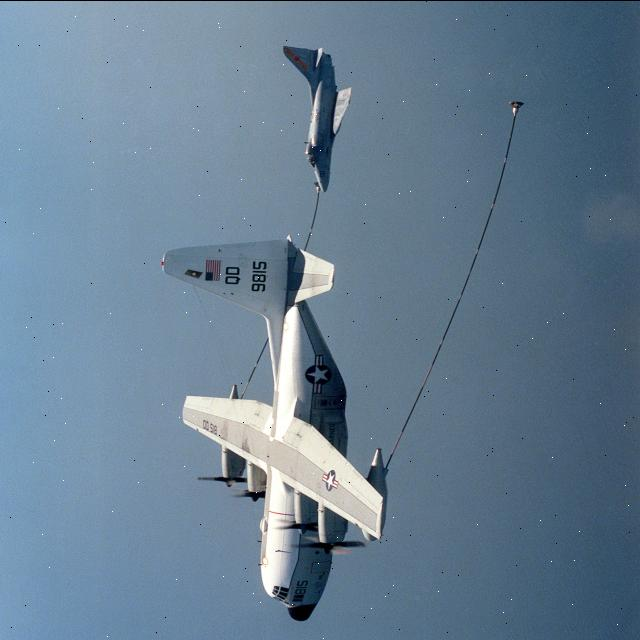C130: (154, 221, 418, 640), (244, 23, 363, 199)
